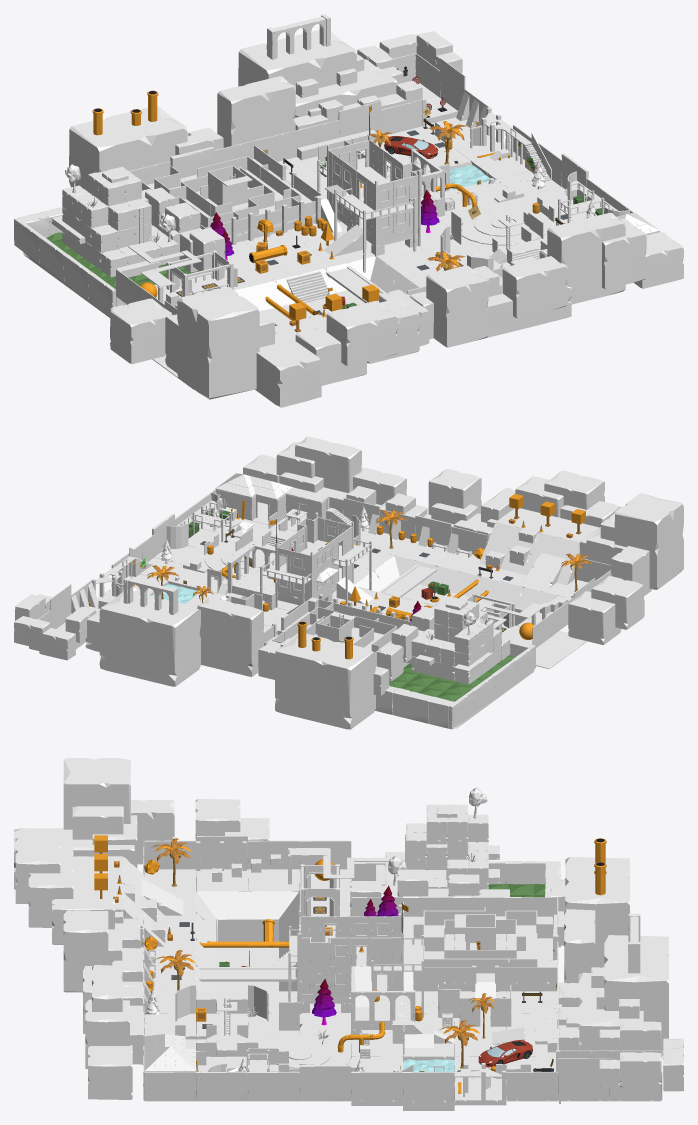
Rendered from environment.glb.
3 renders of one model, top to bottom at view 1: azimuth 30°, elevation 25°; view 2: azimuth 150°, elevation 25°; view 3: azimuth 270°, elevation 25°, orthographic. The views are drawn at different scales.
Parts seen in each view (by area): view 1: SM_Buildings_Block_1x1_01P__71__1, SM_Buildings_Block_1x1_01P__113_, SM_Buildings_Block_1x1_01P__90__1, SM_Buildings_Block_1x1_01P__57__1, SM_Buildings_Block_1x1_01P__56__1, SM_Buildings_Block_1x1_01P__60__1, SM_Buildings_Block_1x1_01P__112__1, SM_Buildings_Block_1x1_01P__110__1, SM_Buildings_Block_1x1_01P__78__1, SM_Buildings_Block_1x1_01P__68__1, SM_Buildings_Block_1x1_01P__61__1, SM_Buildings_Block_1x1_01P__58__1 (+47 smaller); view 2: SM_Buildings_Block_1x1_01P__57__1, SM_Buildings_Block_1x1_01P__113_, SM_Buildings_Block_1x1_01P__71__1, SM_Buildings_Block_1x1_01P__90__1, SM_Buildings_Block_1x1_01P__56__1, SM_Buildings_Block_1x1_01P__69__1, SM_Buildings_Block_1x1_01P__68__1, SM_Buildings_Block_1x1_01P__60__1, SM_Buildings_Block_1x1_01P__110__1, SM_Buildings_Floor_5x5_01P__73_, SM_Buildings_Block_1x1_01P__72__1, SM_Buildings_Block_1x1_01P__78__1 (+57 smaller); view 3: SM_Buildings_Block_1x1_01P__57__1, SM_Buildings_Block_1x1_01P__113_, SM_Buildings_Block_1x1_01P__71__1, SM_Buildings_Block_1x1_01P__60__1, SM_Buildings_Block_1x1_01P__65__1, SM_Buildings_Ramp_45_1x1_01P__17_, SM_Buildings_Block_1x1_01P__90__1, SM_Buildings_Block_1x1_01P__110__1, SM_Buildings_Block_1x1_01P__108__1, SM_Buildings_Block_1x1_01P__58__1, SM_Buildings_Wall_5x3_01P__16_, SM_Buildings_Wall_5x3_01P__36_ (+82 smaller).
Boxes of the visible parts, x1,y1,x2,y2 form: SM_Buildings_Block_1x1_01P__71__1: [177, 287, 259, 399]; SM_Buildings_Block_1x1_01P__113_: [69, 106, 187, 191]; SM_Buildings_Block_1x1_01P__90__1: [217, 76, 295, 147]; SM_Buildings_Block_1x1_01P__57__1: [238, 30, 356, 93]; SM_Buildings_Block_1x1_01P__56__1: [547, 213, 625, 304]; SM_Buildings_Block_1x1_01P__60__1: [426, 265, 488, 347]; SM_Buildings_Block_1x1_01P__112__1: [255, 326, 321, 407]; SM_Buildings_Block_1x1_01P__110__1: [326, 301, 397, 366]; SM_Buildings_Block_1x1_01P__78__1: [502, 256, 567, 318]; SM_Buildings_Block_1x1_01P__68__1: [110, 301, 171, 364]; SM_Buildings_Block_1x1_01P__61__1: [602, 219, 646, 289]; SM_Buildings_Block_1x1_01P__58__1: [295, 59, 397, 117]; SM_Buildings_Block_1x1_01P__57__1: [99, 591, 200, 686]; SM_Buildings_Block_1x1_01P__113_: [275, 633, 375, 729]; SM_Buildings_Block_1x1_01P__71__1: [614, 493, 683, 589]; SM_Buildings_Block_1x1_01P__90__1: [197, 597, 263, 676]; SM_Buildings_Block_1x1_01P__56__1: [295, 436, 361, 492]; SM_Buildings_Block_1x1_01P__69__1: [568, 591, 621, 644]; SM_Buildings_Block_1x1_01P__68__1: [591, 576, 644, 629]; SM_Buildings_Block_1x1_01P__60__1: [428, 469, 481, 514]; SM_Buildings_Block_1x1_01P__110__1: [544, 470, 604, 509]; SM_Buildings_Floor_5x5_01P__73_: [496, 508, 599, 542]; SM_Buildings_Block_1x1_01P__72__1: [611, 546, 651, 595]; SM_Buildings_Block_1x1_01P__78__1: [353, 468, 406, 504]; SM_Buildings_Block_1x1_01P__57__1: [604, 935, 668, 1056]; SM_Buildings_Block_1x1_01P__113_: [565, 857, 629, 967]; SM_Buildings_Block_1x1_01P__71__1: [63, 758, 130, 829]; SM_Buildings_Block_1x1_01P__60__1: [63, 910, 108, 992]; SM_Buildings_Block_1x1_01P__65__1: [88, 1045, 132, 1099]; SM_Buildings_Ramp_45_1x1_01P__17_: [197, 891, 298, 919]; SM_Buildings_Block_1x1_01P__90__1: [564, 909, 595, 983]; SM_Buildings_Block_1x1_01P__110__1: [15, 837, 60, 903]; SM_Buildings_Block_1x1_01P__108__1: [28, 862, 73, 927]; SM_Buildings_Block_1x1_01P__58__1: [578, 972, 643, 1050]; SM_Buildings_Wall_5x3_01P__16_: [558, 1058, 609, 1100]; SM_Buildings_Wall_5x3_01P__36_: [299, 1065, 351, 1101].
Size of the model in its own units: 61.89 by 17.61 by 64.81.
Materials: 13 (5 with a texture image).
